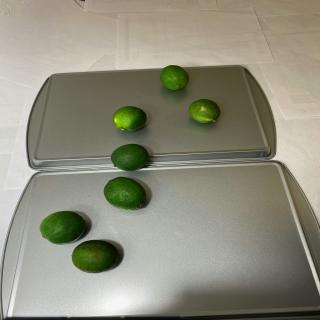Lemon: (39, 210, 86, 245), (71, 240, 119, 274), (103, 177, 147, 210), (110, 143, 149, 171), (112, 105, 147, 132), (188, 98, 221, 124), (160, 64, 189, 90)
